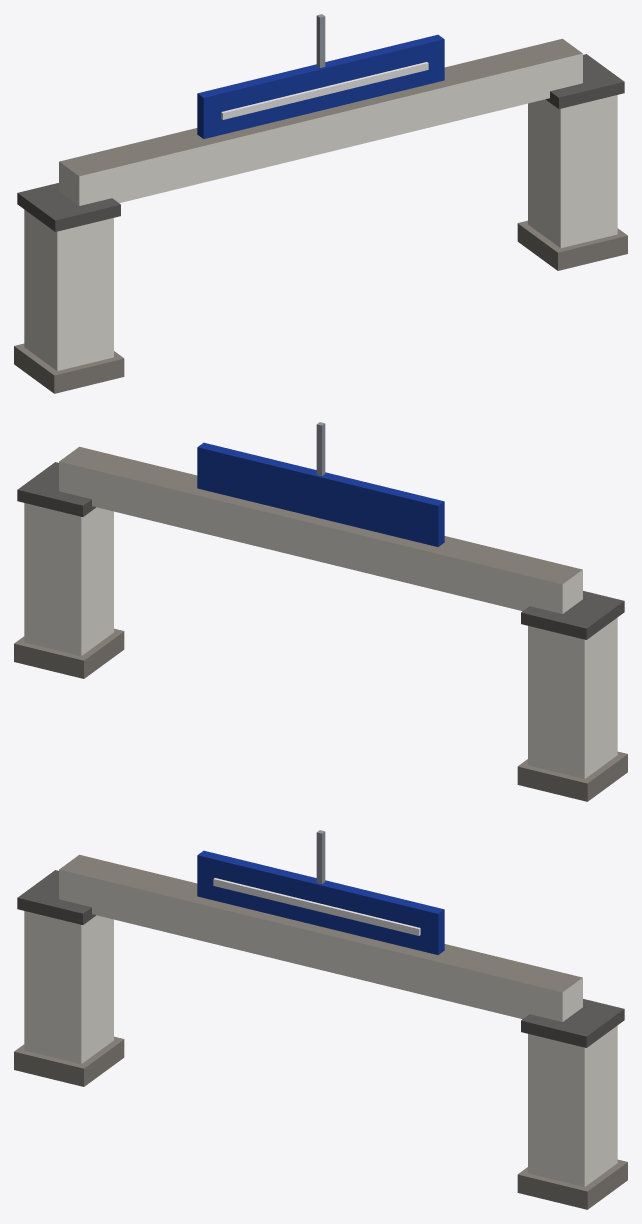
Rendered from arco_entrada.obj.
3 renders of one model, top to bottom at view 1: azimuth 30°, elevation 25°; view 2: azimuth 150°, elevation 25°; view 3: azimuth 330°, elevation 25°, orthographic.
Visible parts, largest first — view 1: arco_entrada; view 2: arco_entrada; view 3: arco_entrada.
Part boxes in pixels (<box>): arco_entrada: <box>14,14,627,393</box>; arco_entrada: <box>14,422,627,801</box>; arco_entrada: <box>14,830,627,1209</box>.
Size of the model in its own units: 26.2 by 12.8 by 3.2.
